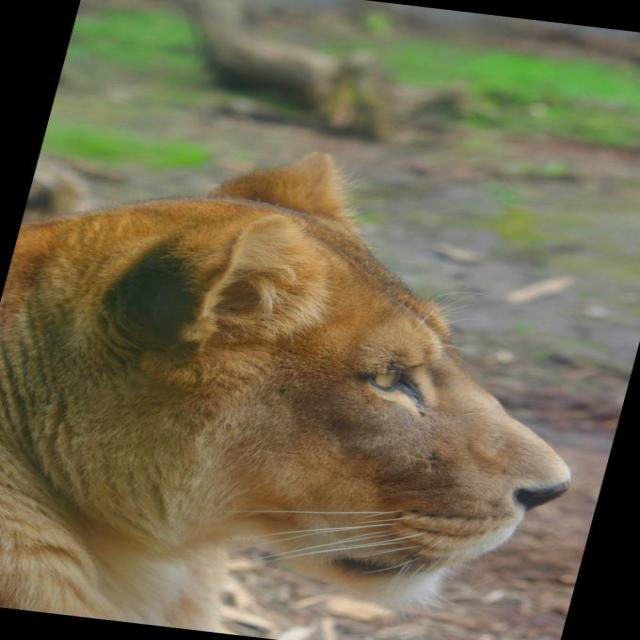Lion: (0, 120, 639, 640)
